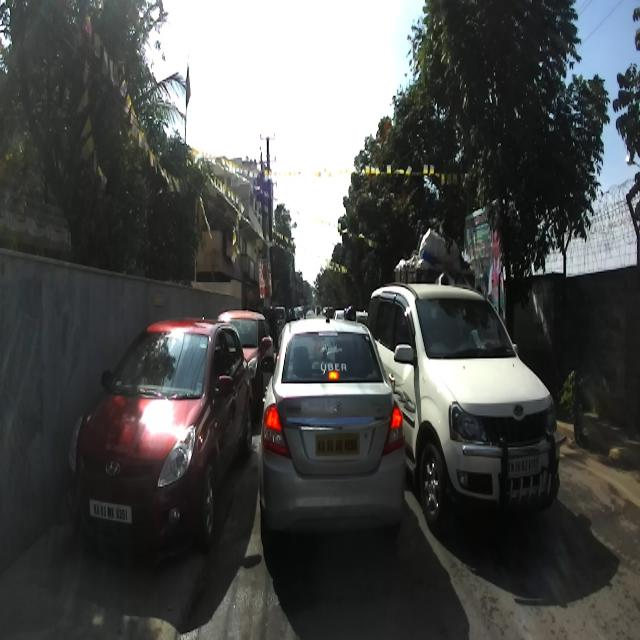car: (365, 278, 561, 539), (68, 314, 254, 562), (258, 302, 406, 550)
